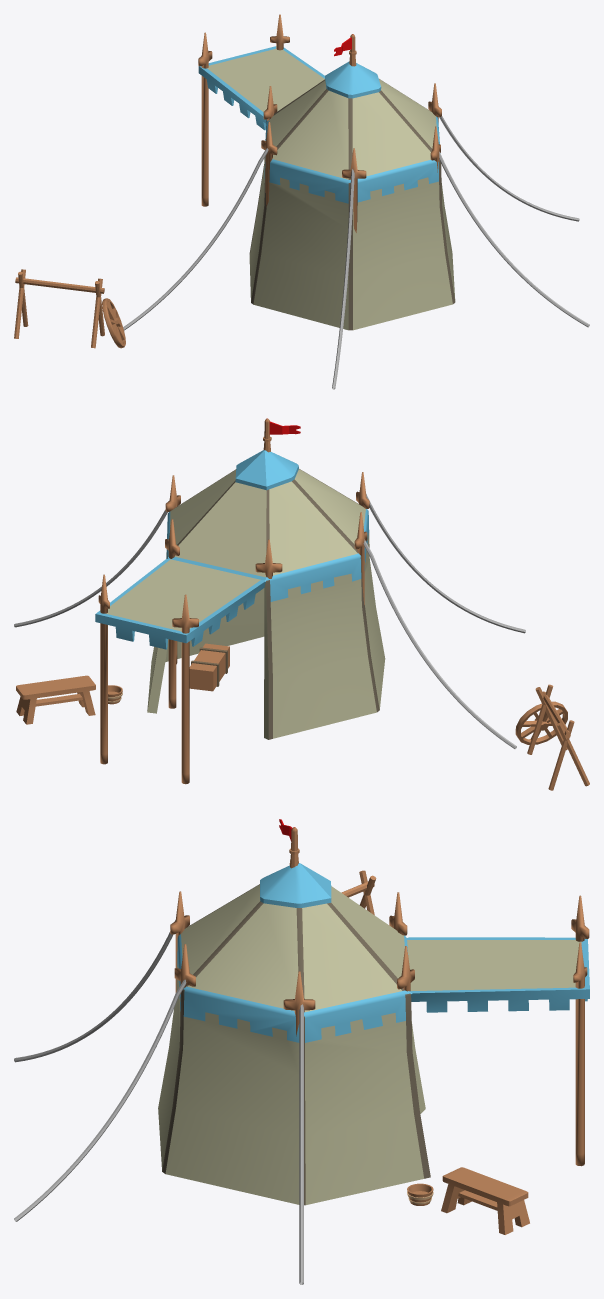
The model's file is Carpa mediaval.fbx.
3 renders of one model, top to bottom at view 1: azimuth 30°, elevation 25°; view 2: azimuth 150°, elevation 25°; view 3: azimuth 270°, elevation 25°, orthographic. The views are drawn at different scales.
Visible parts, largest first — view 1: Circle, NurbsPath.002, Cylinder.005, Cylinder.002, Circle.001; view 2: Circle, Cylinder.005, NurbsPath.002, Cube, Cylinder.002, Cube.002, Circle.001, Cylinder.008; view 3: Circle, Cylinder.005, NurbsPath.002, Cube, Cylinder.002.
Boxes of the visible parts, x1,y1,x2,y2 form: Circle: (198, 46, 455, 330); NurbsPath.002: (123, 116, 589, 389); Cylinder.005: (198, 14, 441, 232); Cylinder.002: (14, 269, 104, 348); Circle.001: (102, 298, 125, 348); Circle: (95, 450, 385, 739); Cylinder.005: (98, 472, 369, 784); NurbsPath.002: (14, 493, 525, 749); Cube: (16, 675, 95, 724); Cylinder.002: (527, 684, 589, 790); Cube.002: (189, 643, 229, 691); Circle.001: (515, 701, 567, 744); Cylinder.008: (263, 418, 300, 452); Circle: (158, 863, 589, 1205); Cylinder.005: (170, 860, 589, 1166); NurbsPath.002: (14, 920, 303, 1284); Cube: (441, 1167, 529, 1234); Cylinder.002: (341, 870, 376, 915).
Bounding box in the file's own units: 846 × 365 × 601.
